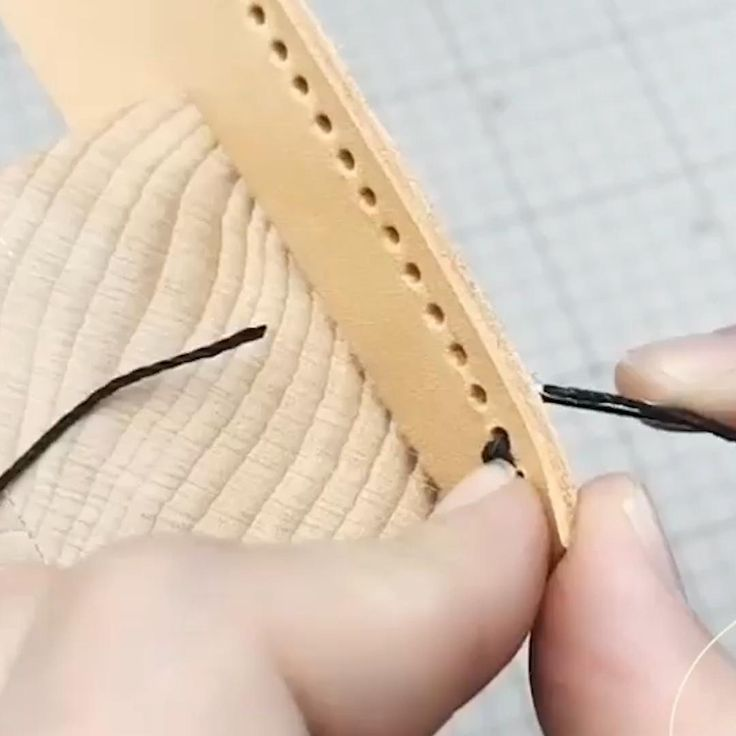cuero: (2, 1, 577, 560)
